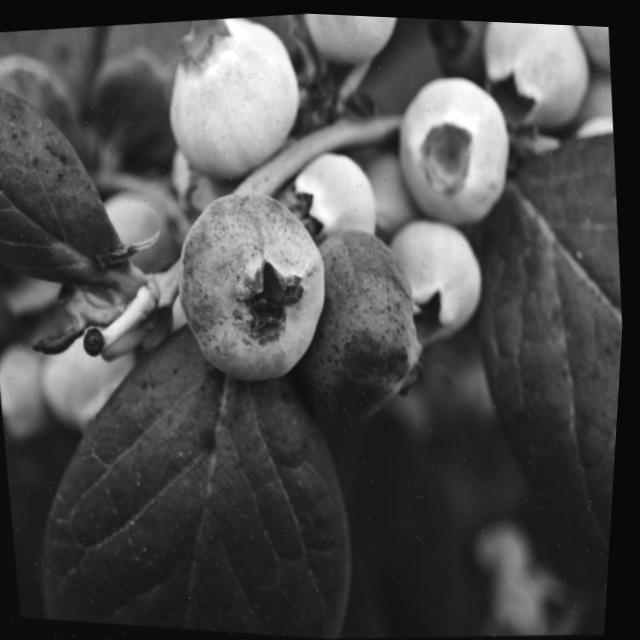Semi-RipeBlueBerry: (151, 168, 354, 404), (270, 206, 458, 448)
UnripeBlueBerry: (143, 5, 325, 199)
